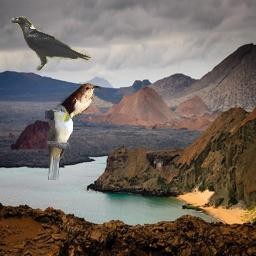Crow: (9, 16, 91, 72)
Cuckoo: (45, 83, 101, 124), (46, 105, 73, 180)
